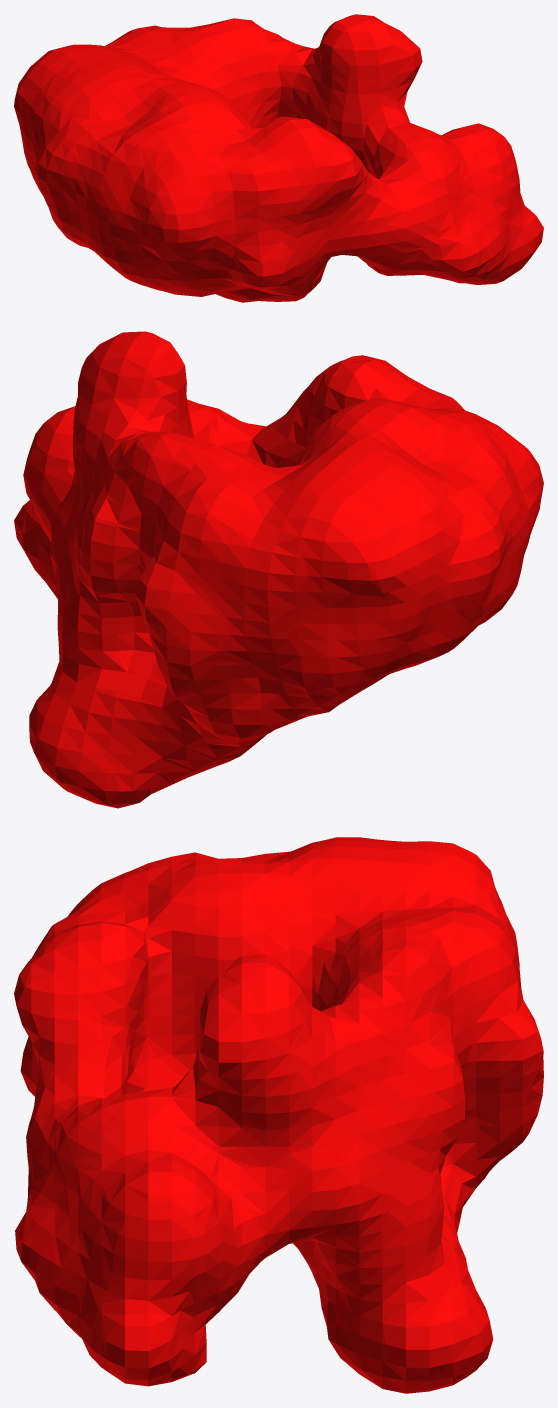
File: rplB_coarse.dae
3 views of the same model, one above another, from view 1: azimuth 30°, elevation 25°; view 2: azimuth 150°, elevation 25°; view 3: azimuth 270°, elevation 25° (orthographic). The views are drawn at different scales.
Parts seen in each view (by area): view 1: rplB; view 2: rplB; view 3: rplB.
Part boxes in pixels (x1,y1,x2,y2): rplB: (14, 14, 543, 302); rplB: (14, 331, 543, 808); rplB: (14, 837, 543, 1393).
Size of the model in its own units: 72.13 by 49.66 by 53.86.
